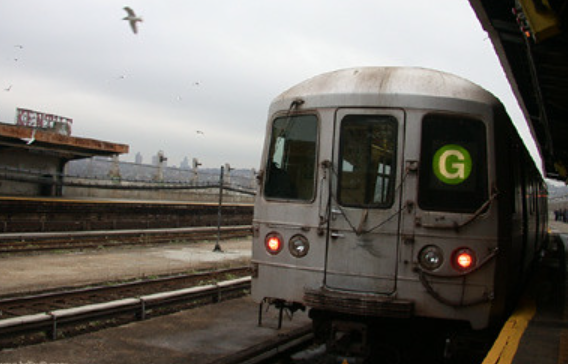train: (257, 67, 498, 327)
